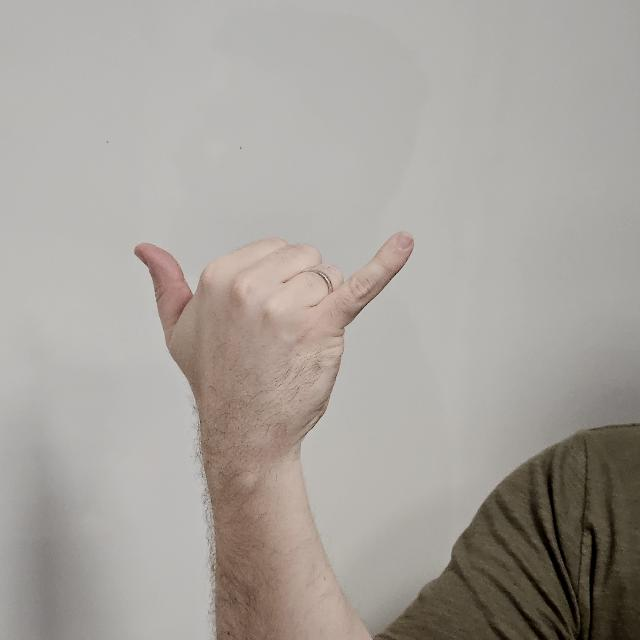Direita: (129, 230, 411, 470)
